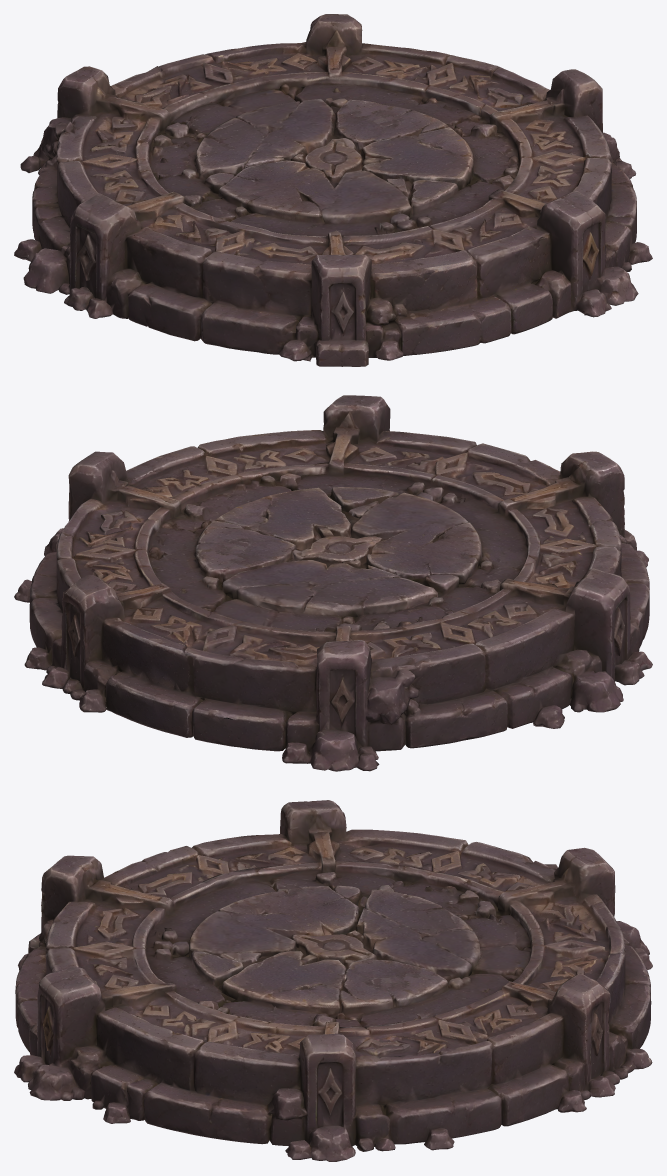
File: purple_rune_dais.glb
The picture shows the model from 3 angles, top to bottom: view 1: azimuth 30°, elevation 25°; view 2: azimuth 150°, elevation 25°; view 3: azimuth 270°, elevation 25°; orthographic projection. The views are drawn at different scales.
Parts seen in each view (by area): view 1: tripo_node_05648140-6ee1-43e2-a4ac-41a4d212f878; view 2: tripo_node_05648140-6ee1-43e2-a4ac-41a4d212f878; view 3: tripo_node_05648140-6ee1-43e2-a4ac-41a4d212f878.
Part boxes in pixels (box(x1,y1,x2,y2)): tripo_node_05648140-6ee1-43e2-a4ac-41a4d212f878: box(14, 14, 652, 366); tripo_node_05648140-6ee1-43e2-a4ac-41a4d212f878: box(14, 395, 652, 771); tripo_node_05648140-6ee1-43e2-a4ac-41a4d212f878: box(14, 800, 652, 1161).
Bounding box in the file's own units: 1 × 0.1638 × 0.936.
1 material, 1 textured.
